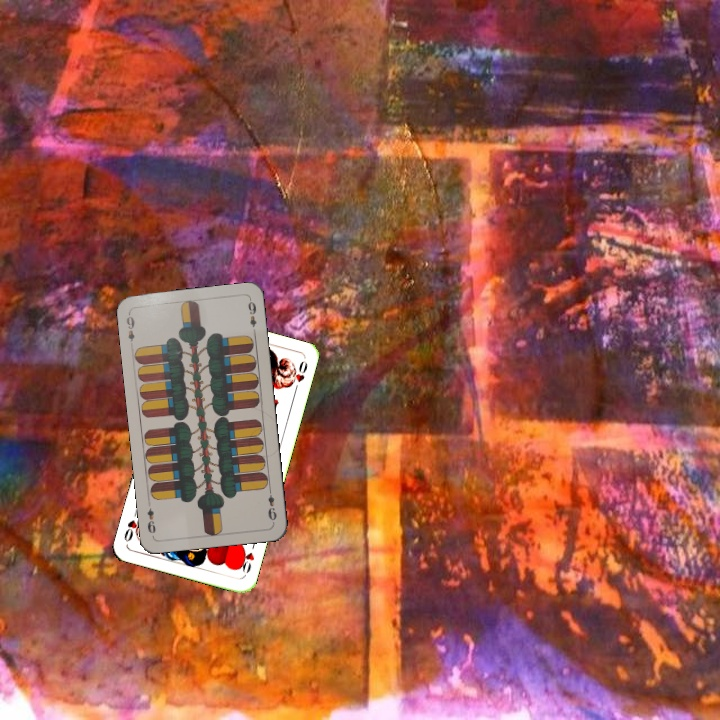E9: (122, 309, 137, 350), (264, 484, 279, 523)
HO: (235, 538, 258, 576)
